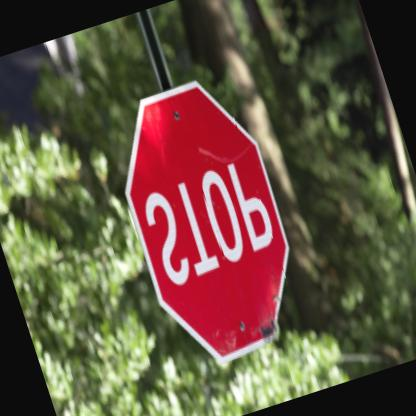stop: (97, 72, 322, 378)
